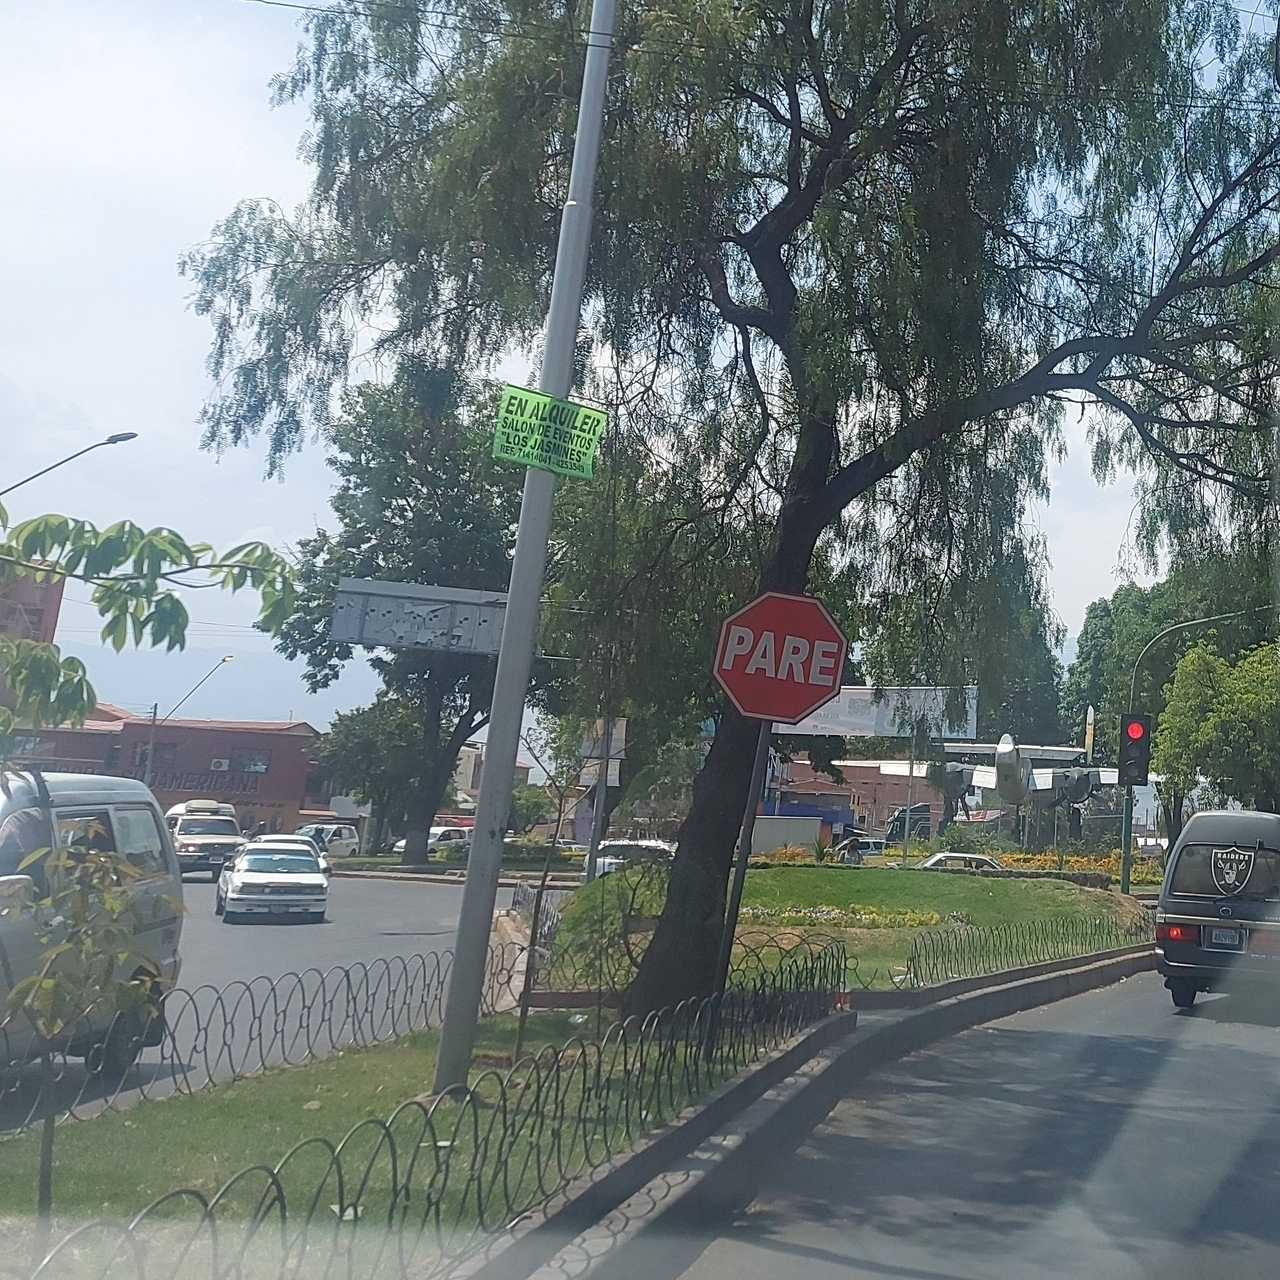pare: (717, 591, 847, 724)
